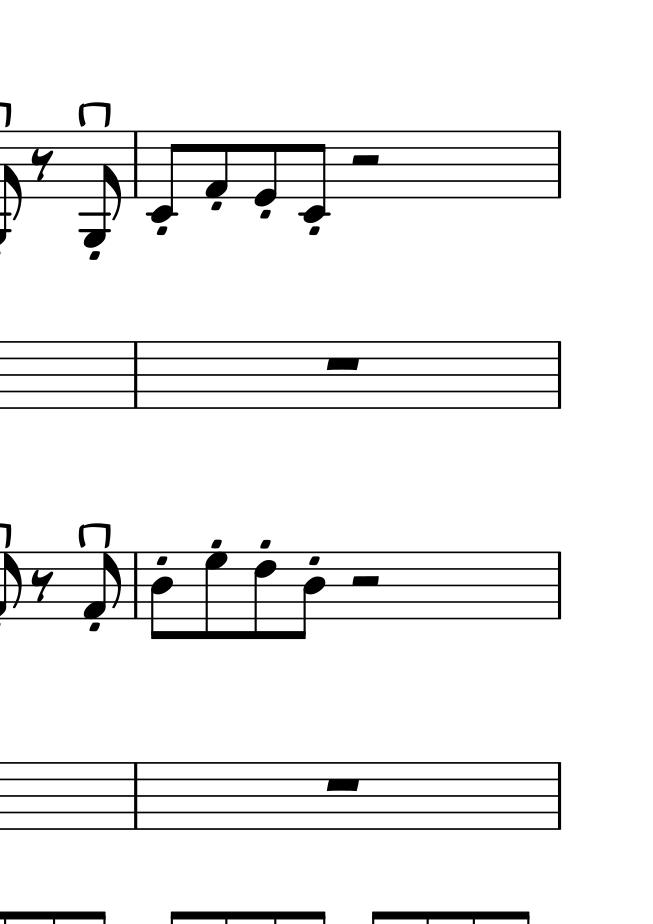8_-2: (146, 128, 184, 224), (301, 129, 328, 225)
8_-5: (81, 129, 118, 250)
8_0: (252, 127, 279, 208)
8_1: (83, 552, 123, 620), (203, 129, 230, 201)
8_4: (288, 550, 326, 641), (149, 551, 173, 642)
8_6: (252, 551, 278, 641)
8_7: (204, 552, 229, 642)
Rests1: (322, 349, 361, 377), (323, 775, 366, 796)
Rests2: (344, 151, 382, 169), (345, 573, 383, 591)
Rests8: (27, 147, 55, 180), (29, 569, 57, 600)
Single_barline: (549, 341, 567, 409), (550, 551, 567, 621), (550, 761, 567, 830), (550, 131, 567, 198), (127, 552, 143, 618), (128, 342, 143, 409), (128, 763, 143, 829), (128, 131, 143, 197)
